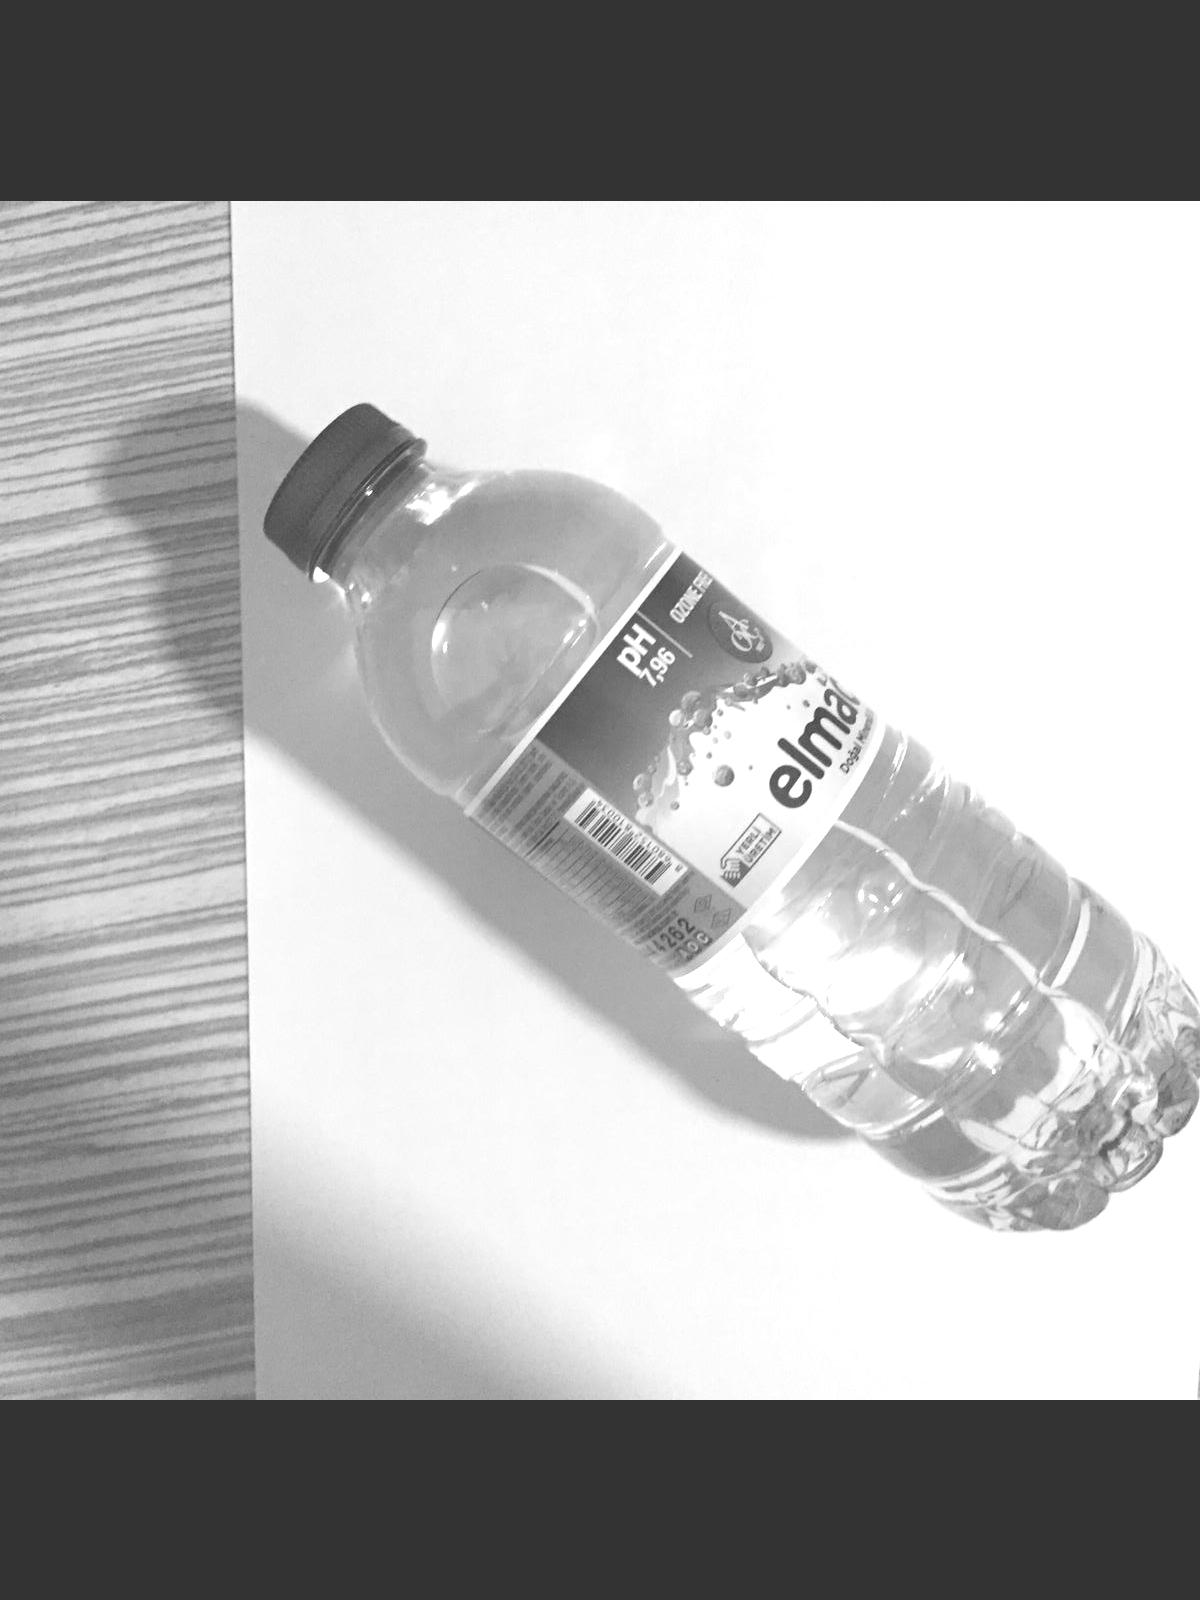bottle: (263, 398, 1200, 1230)
